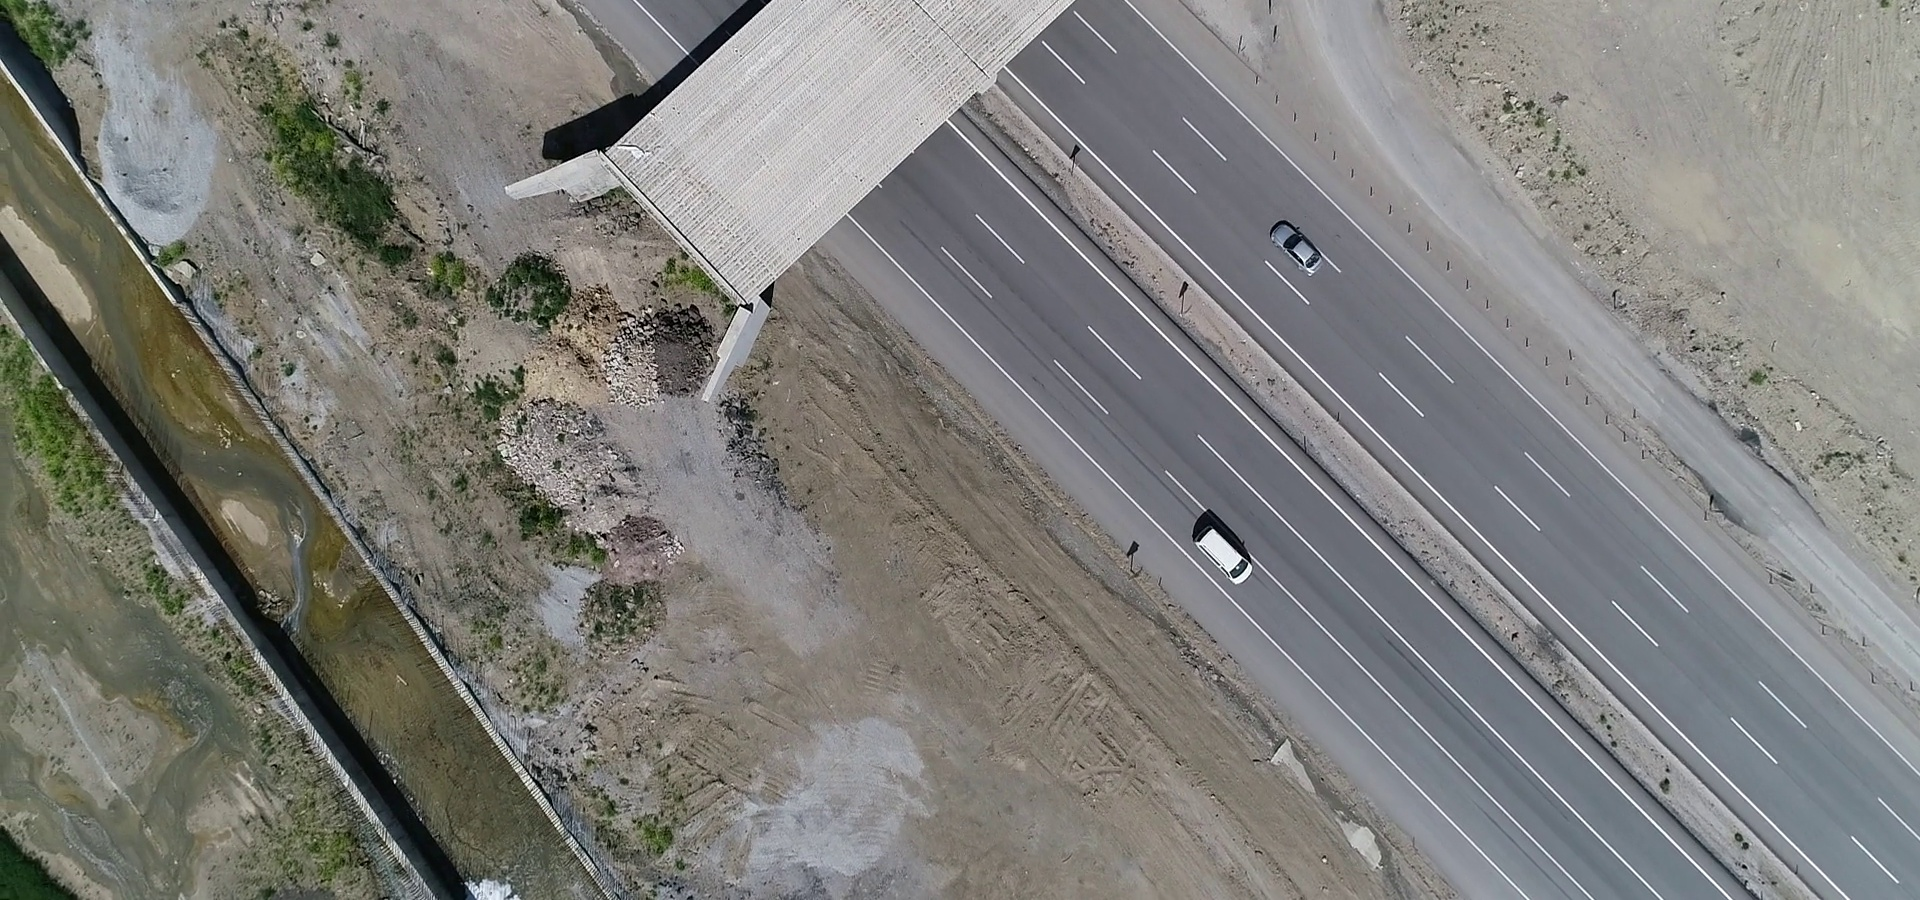araba: (1189, 512, 1260, 595), (1267, 217, 1329, 280)
